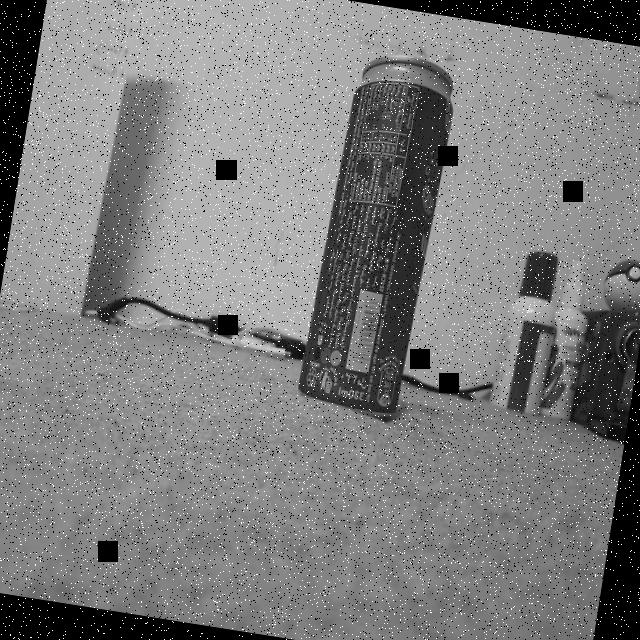can: (290, 39, 462, 425)
